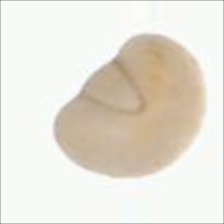L5: (78, 58, 150, 119), (149, 132, 202, 176)
L6: (51, 32, 209, 183)
